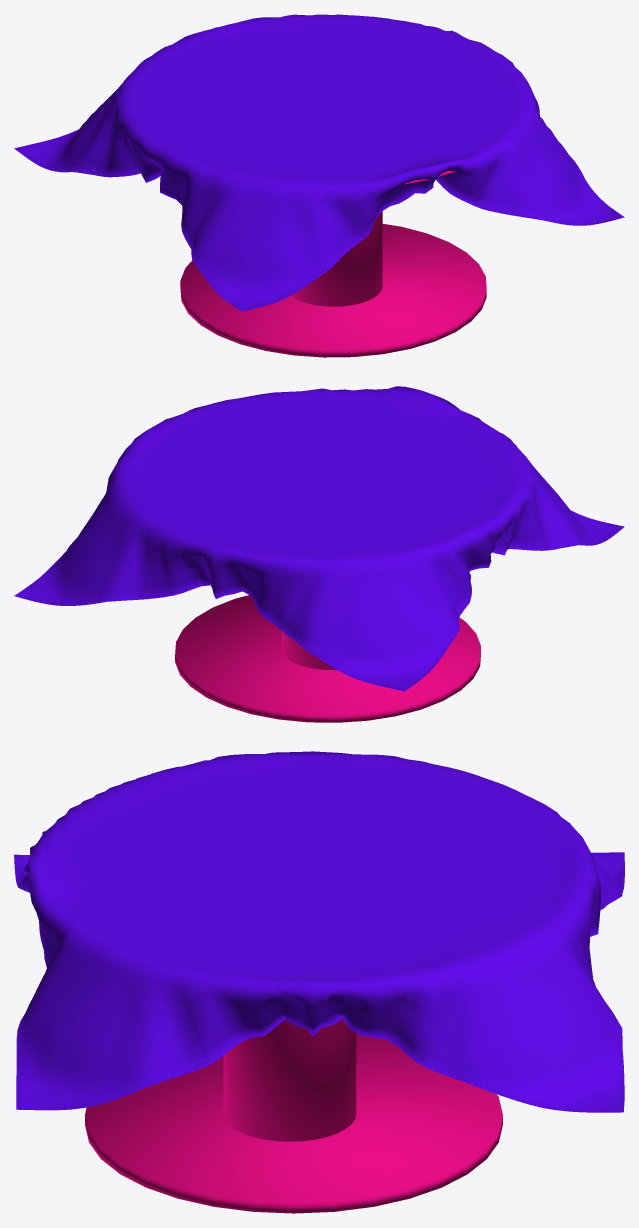
File: coffeetable1.fbx
3 renders of one model, top to bottom at view 1: azimuth 30°, elevation 25°; view 2: azimuth 150°, elevation 25°; view 3: azimuth 270°, elevation 25°, orthographic. The views are drawn at different scales.
Parts seen in each view (by area): view 1: cloth, tabletop; view 2: cloth, tabletop; view 3: cloth, tabletop.
Boxes of the visible parts, left/top/right/bottom form: cloth: left=14, top=14, right=624, bottom=311; tabletop: left=180, top=170, right=486, bottom=357; cloth: left=14, top=386, right=624, bottom=691; tabletop: left=175, top=595, right=480, bottom=722; cloth: left=14, top=751, right=624, bottom=1112; tabletop: left=85, top=1019, right=502, bottom=1213.
Size of the model in its own units: 348 by 167 by 345.
